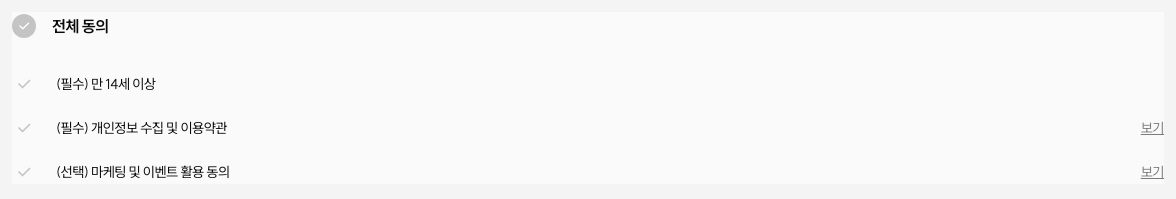
Test: Agreement › 하나의 항목이 체크된 상태에서 전체 동의 버튼을 누르면 모든 항목이 체크된다
This screenshot has width=1176, height=199.
Click the 2nd checkbox. click: (24, 84)
box: [14, 74, 34, 94]
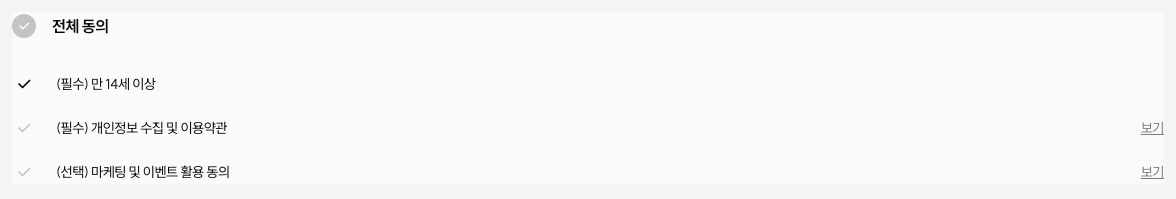
Expected: the 2nd checkbox is checked, [14, 74, 34, 94]
Click the button "전체 동의". click: (80, 26)
box: [12, 12, 1164, 40]
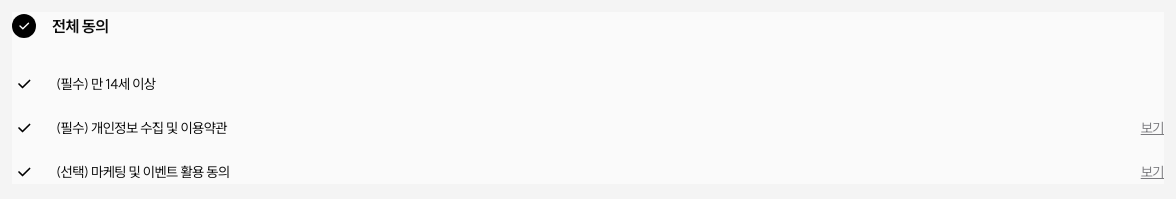
Expected: the 1st checkbox is checked, [12, 14, 36, 38]
Expected: the 2nd checkbox is checked, [14, 74, 34, 94]
Expected: the 3rd checkbox is checked, [14, 118, 34, 138]
